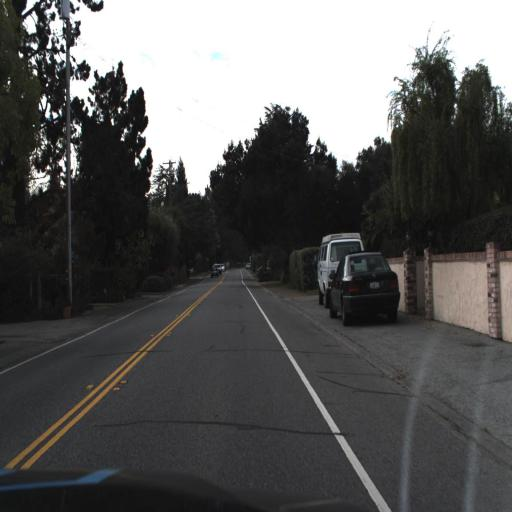car: (326, 247, 401, 327), (313, 228, 364, 304)
